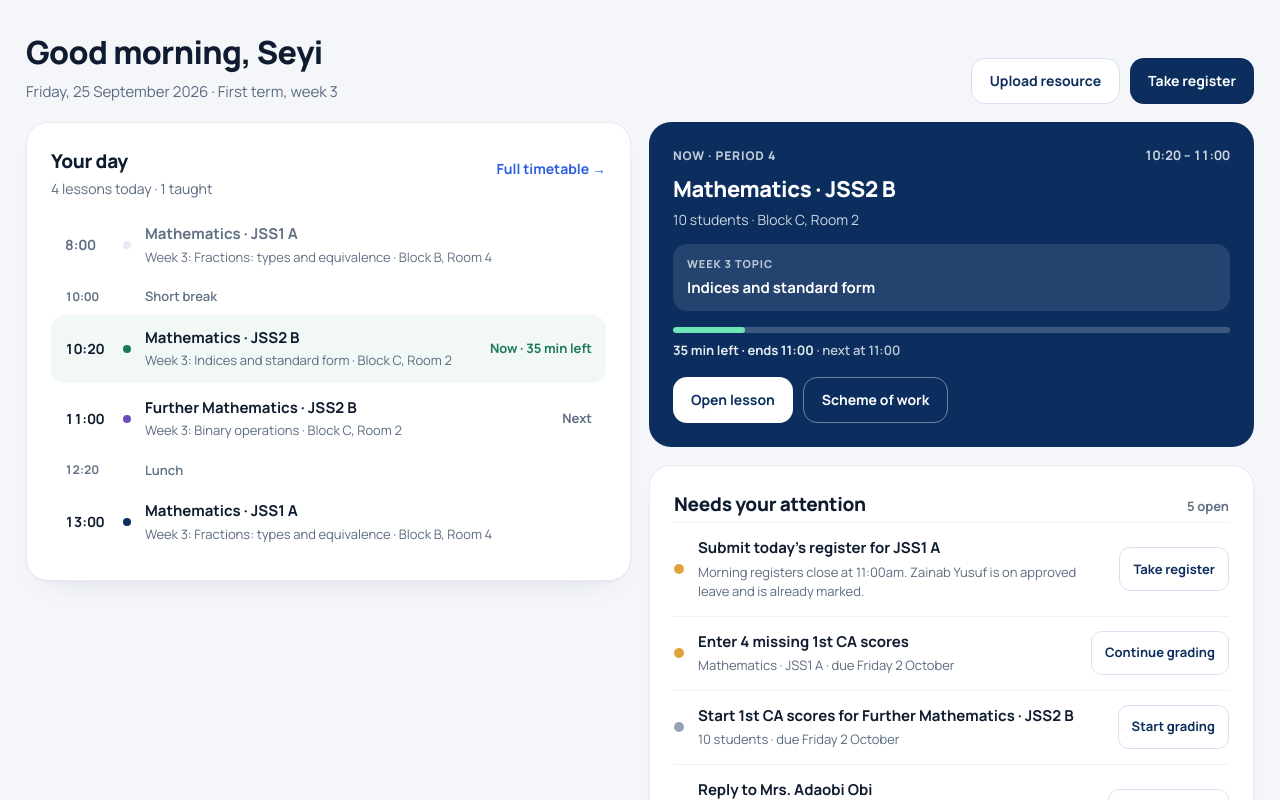
Test: the lesson sheet › offers the register only to the class teacher
Click the button "Open lesson": (733, 400) [673,376,793,422]
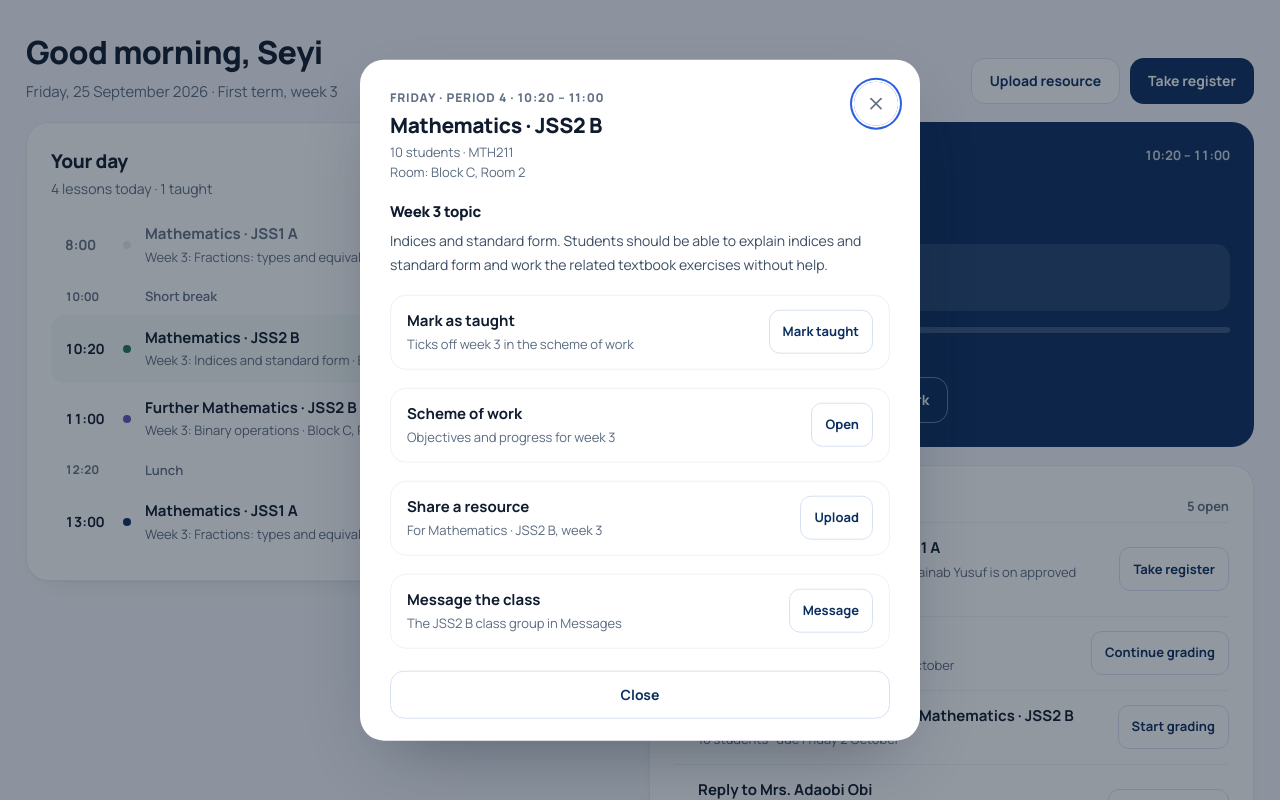
Result: the heading "Mathematics · JSS2 B" is shown at [390,112,604,138]
